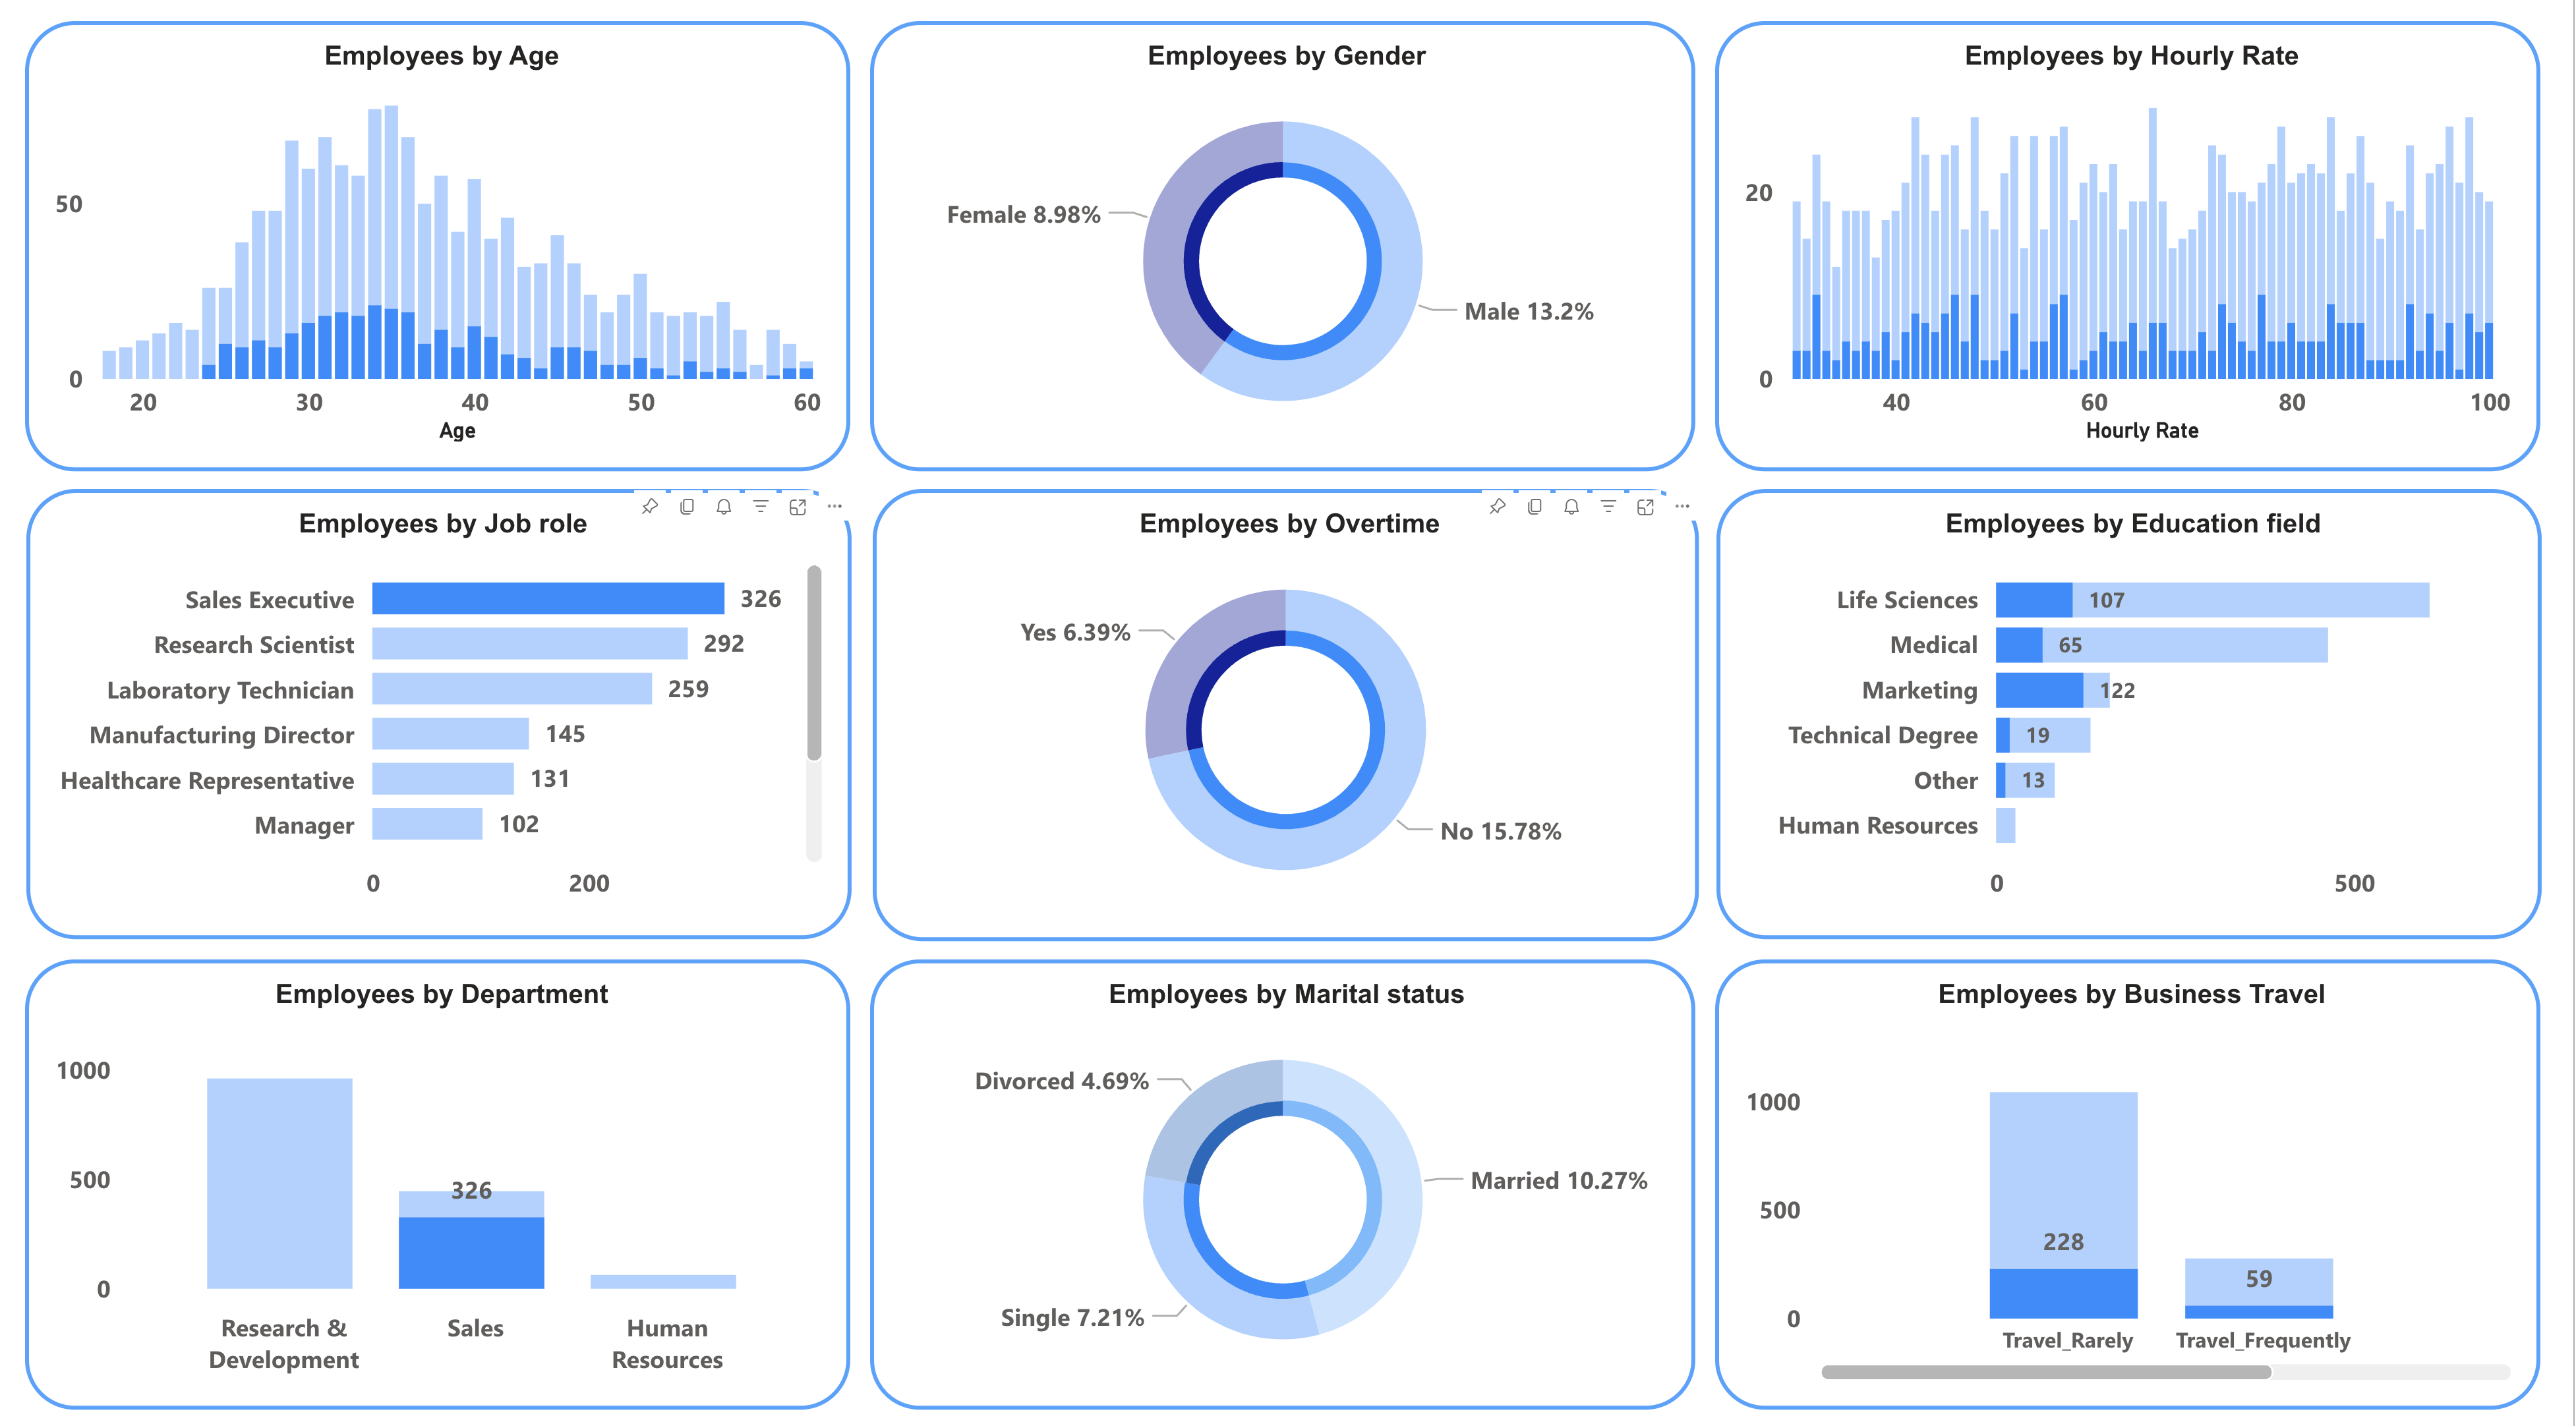

This screenshot's page, from the dashboard's own definition file:
{"tool":"powerbi","page":{"name":"Page 1","canvas":[1280,720],"ordinal":0},"visuals":[{"type":"columnChart","title":"Employees by Age","fields":{"Category":["IBM data.Age"],"Y":["Sum(IBM data.EmployeeCount)"]},"box":[6.5,12.1,415.2,226.6],"z":0},{"type":"donutChart","title":"Employees by Gender","fields":{"Y":["Sum(IBM data.EmployeeCount)"],"Category":["IBM data.Gender"]},"box":[431.9,12.1,415.2,226.6],"z":1000},{"type":"columnChart","title":"Employees by Hourly Rate","fields":{"Y":["Sum(IBM data.EmployeeCount)"],"Category":["IBM data.HourlyRate"]},"box":[856.4,12.1,415.2,226.6],"z":2000},{"type":"barChart","title":"Employees by Education field","fields":{"Y":["Sum(IBM data.EmployeeCount)"],"Category":["IBM data.EducationField"]},"box":[857.4,247.1,415.2,226.6],"z":3000},{"type":"donutChart","title":"Employees by Marital status","fields":{"Y":["Sum(IBM data.EmployeeCount)"],"Category":["IBM data.MaritalStatus"]},"box":[431.9,483.9,415.2,226.6],"z":4000},{"type":"columnChart","title":"Employees by Department","fields":{"Y":["Sum(IBM data.EmployeeCount)"],"Category":["IBM data.Department"]},"box":[6.5,483.9,415.2,226.6],"z":5000},{"type":"barChart","title":"Employees by Job role","fields":{"Y":["Sum(IBM data.EmployeeCount)"],"Category":["IBM data.JobRole"]},"box":[7.4,247.1,415.2,226.6],"z":6000},{"type":"columnChart","title":"Employees by Business Travel","fields":{"Y":["Sum(IBM data.EmployeeCount)"],"Category":["IBM data.BusinessTravel"]},"box":[856.4,483.9,415.2,226.6],"z":7000},{"type":"donutChart","title":"Employees by Overtime","fields":{"Y":["Sum(IBM data.EmployeeCount)"],"Category":["IBM data.OverTime"]},"box":[433.1,247.5,415.4,227.4],"z":7001}]}

Visuals, with their boxes in screenshot pixels (x1, y1, x2, y2), scaled from the page's 1280x720 canvas onto the 2576x1426 screenshot:
"Employees by Age" columnChart: rect(13, 24, 849, 472)
"Employees by Gender" donutChart: rect(869, 24, 1705, 472)
"Employees by Hourly Rate" columnChart: rect(1724, 24, 2559, 472)
"Employees by Education field" barChart: rect(1726, 490, 2561, 938)
"Employees by Marital status" donutChart: rect(869, 958, 1705, 1407)
"Employees by Department" columnChart: rect(13, 958, 849, 1407)
"Employees by Job role" barChart: rect(15, 490, 850, 938)
"Employees by Business Travel" columnChart: rect(1724, 958, 2559, 1407)
"Employees by Overtime" donutChart: rect(871, 490, 1708, 940)
